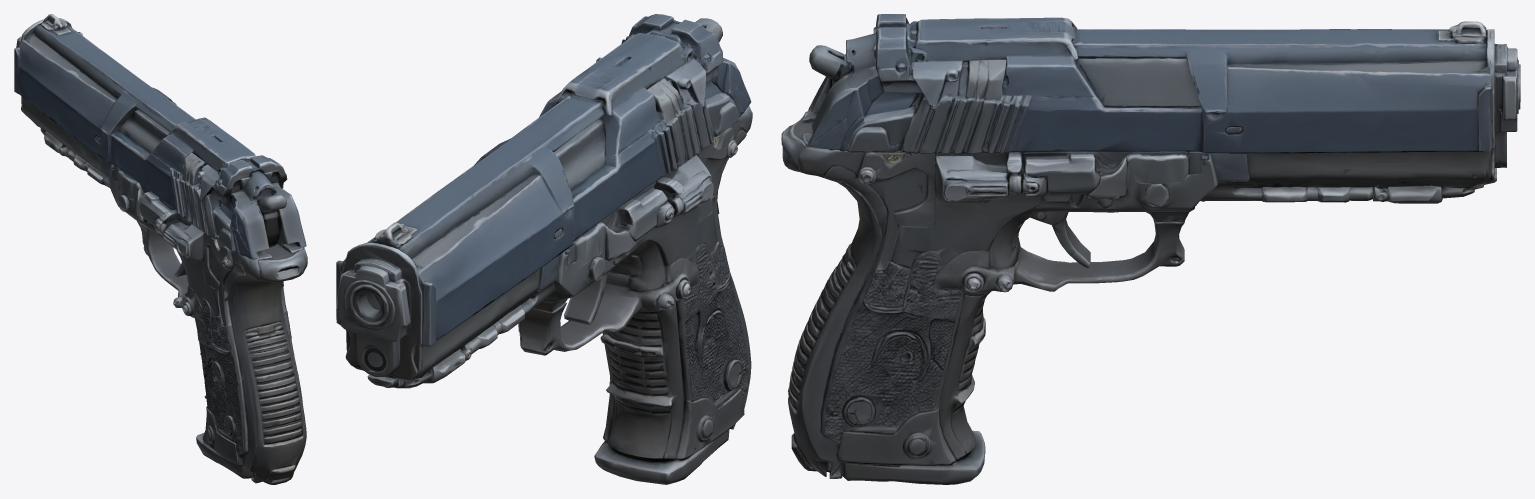
Rendered from weapon-pistol.glb.
3 views of the same model, side by side, from view 1: azimuth 30°, elevation 25°; view 2: azimuth 150°, elevation 25°; view 3: azimuth 270°, elevation 25° (orthographic). The views are drawn at different scales.
Visible parts, largest first — view 1: slide, body; view 2: slide, body; view 3: slide, body.
Part boxes in pixels (box(x1,y1,x2,y2)): slide: box(14, 14, 307, 282); body: box(28, 117, 306, 484); slide: box(336, 14, 752, 379); body: box(351, 157, 751, 484); slide: box(781, 14, 1520, 199); body: box(788, 168, 1496, 484).
Bounding box in the file's own units: 0.2203 × 0.6532 × 0.9801.
1 material, 1 textured.
